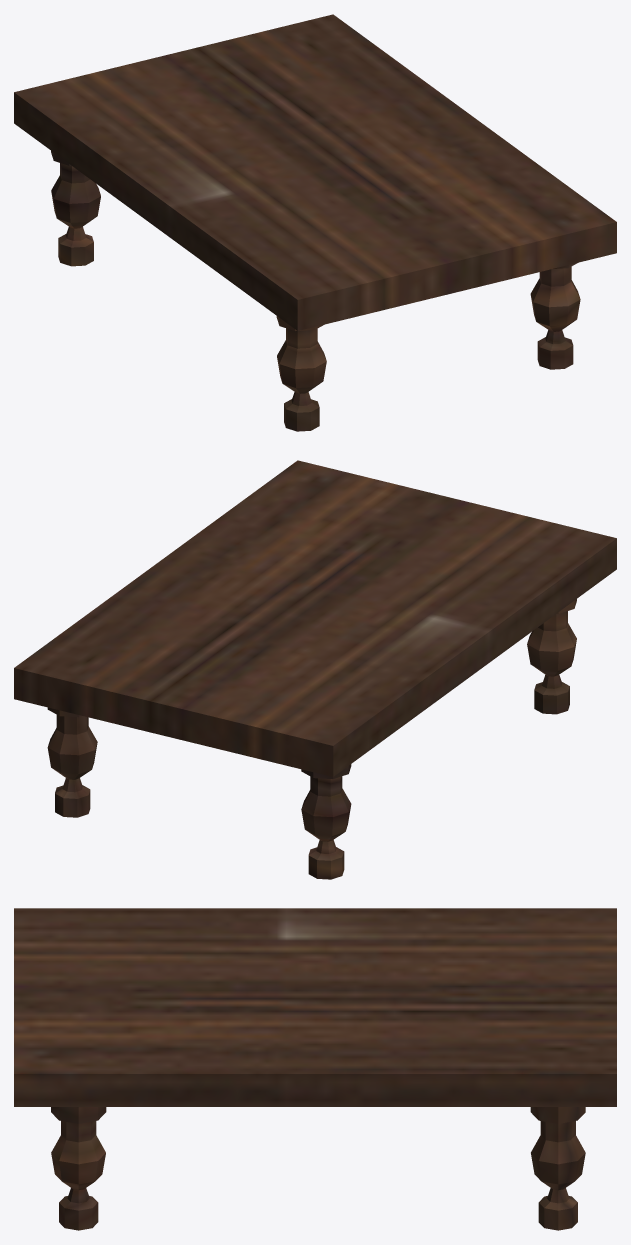
The model's file is LowTable.fbx.
3 views of the same model, one above another, from view 1: azimuth 30°, elevation 25°; view 2: azimuth 150°, elevation 25°; view 3: azimuth 270°, elevation 25° (orthographic). The views are drawn at different scales.
Parts seen in each view (by area): view 1: Cube.004; view 2: Cube.004; view 3: Cube.004.
Part boxes in pixels (<box>): Cube.004: <box>14,14,616,431</box>; Cube.004: <box>14,460,616,879</box>; Cube.004: <box>14,908,616,1230</box>.
Size of the model in its own units: 141 by 65.34 by 217.
1 material, 1 textured.
